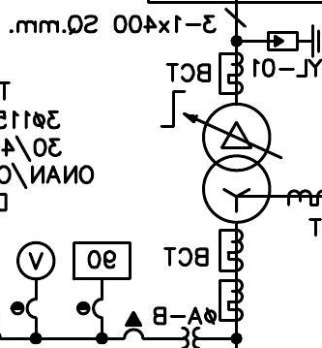11522_tx_dyn1: (201, 102, 272, 225)
v_m: (15, 240, 57, 281)
